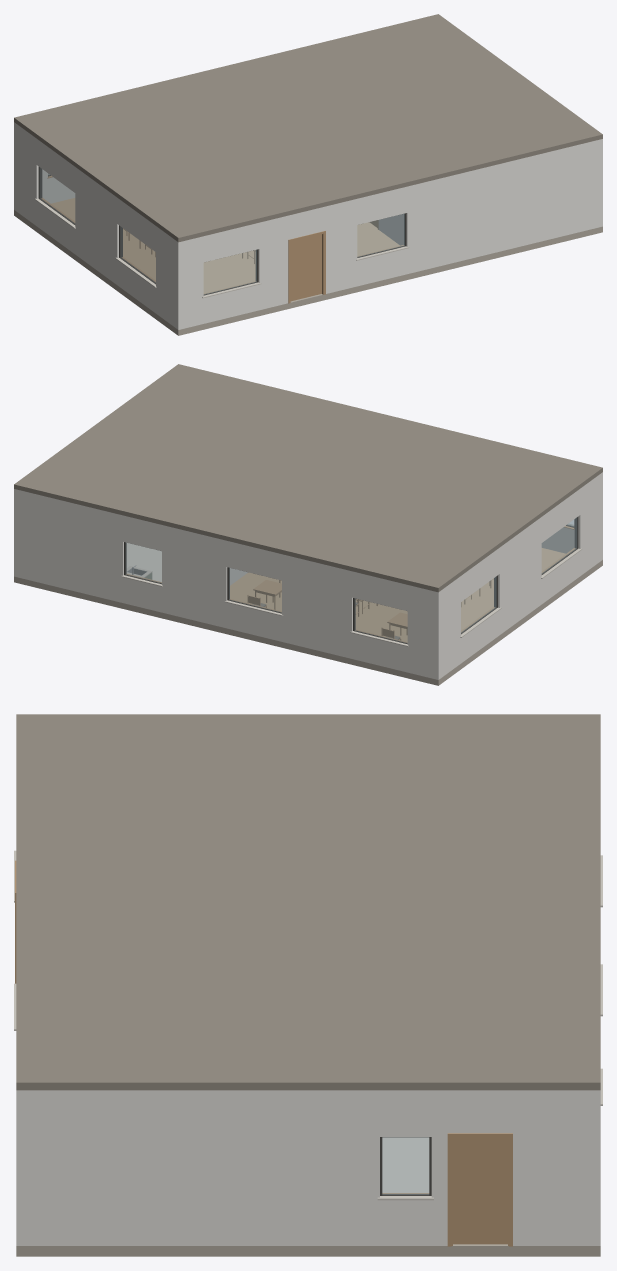
Rendered from corner-cafe.glb.
3 renders of one model, top to bottom at view 1: azimuth 30°, elevation 25°; view 2: azimuth 150°, elevation 25°; view 3: azimuth 270°, elevation 25°, orthographic. The views are drawn at different scales.
Parts seen in each view (by area): view 1: roof:roof, wall:shell, slab:slab, floor:r_dining, door:d_front, window:window_5:glass, window:window_6:glass, window:window_4:glass, window:window_3:glass, wall:w_e, door:d_front:casing; view 2: roof:roof, wall:shell, slab:slab, floor:r_dining, window:window_2:glass, window:window_1:glass, window:window_7:glass, window:window_3:glass, window:window_4:glass, floor:r_kitchen; view 3: roof:roof, wall:shell, slab:slab, door:d_goods, window:window_8:glass, floor:r_kitchen, door:d_goods:casing.
Part boxes in pixels (left/top/right/bottom): roof:roof: left=14, top=14, right=602, bottom=242; wall:shell: left=14, top=122, right=602, bottom=329; slab:slab: left=14, top=210, right=602, bottom=335; floor:r_dining: left=51, top=198, right=399, bottom=293; door:d_front: left=290, top=234, right=321, bottom=301; window:window_5:glass: left=204, top=250, right=256, bottom=294; window:window_6:glass: left=357, top=214, right=404, bottom=256; window:window_4:glass: left=120, top=227, right=155, bottom=282; window:window_3:glass: left=40, top=168, right=74, bottom=223; wall:w_e: left=378, top=214, right=403, bottom=245; door:d_front:casing: left=288, top=231, right=325, bottom=303; roof:roof: left=14, top=364, right=602, bottom=592; wall:shell: left=14, top=472, right=602, bottom=679; slab:slab: left=14, top=560, right=602, bottom=685; floor:r_dining: left=230, top=548, right=565, bottom=641; window:window_2:glass: left=229, top=568, right=281, bottom=612; window:window_1:glass: left=355, top=598, right=407, bottom=643; window:window_7:glass: left=126, top=543, right=161, bottom=583; window:window_3:glass: left=461, top=577, right=496, bottom=632; window:window_4:glass: left=542, top=518, right=576, bottom=573; floor:r_kitchen: left=126, top=543, right=161, bottom=581; roof:roof: left=16, top=714, right=600, bottom=1090; wall:shell: left=16, top=1090, right=600, bottom=1245; slab:slab: left=16, top=1244, right=600, bottom=1256; door:d_goods: left=453, top=1138, right=507, bottom=1244; window:window_8:glass: left=382, top=1137, right=428, bottom=1194; floor:r_kitchen: left=382, top=1137, right=429, bottom=1192; door:d_goods:casing: left=447, top=1133, right=512, bottom=1246.
Bounding box in the file's own units: 15.28 × 3.35 × 10.28.
